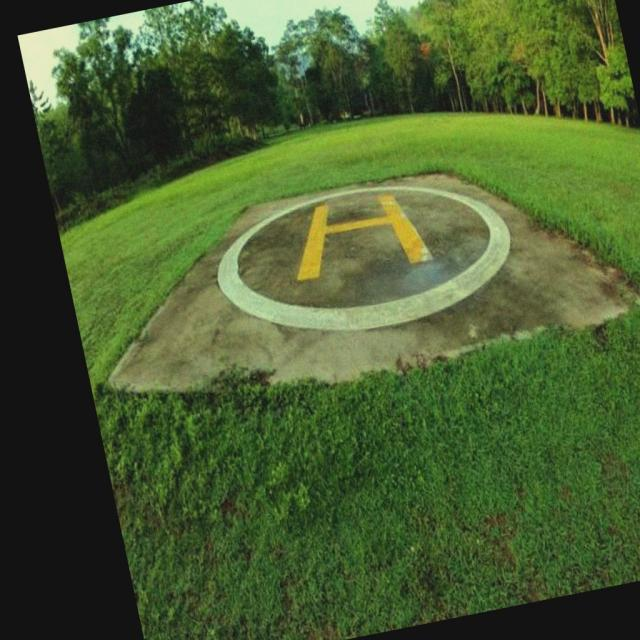helipad: (210, 181, 518, 336)
